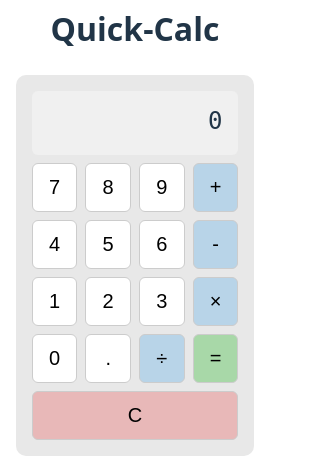
Calculator integration › user flow: divide by zero shows Error
What coordinates should you click on to do the following:
click the button with test id "digit-1"
I would click on:
 (54, 301)
Its box is [32, 277, 77, 326].
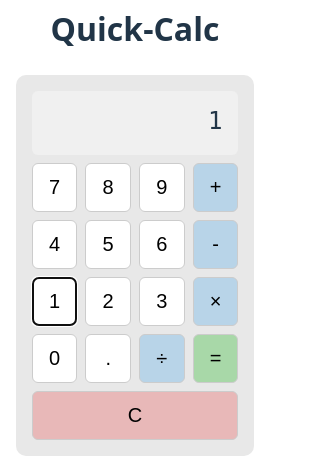
What coordinates should you click on to do the following:
click the button with test id "operator-/"
I would click on:
 (162, 358)
Its box is [139, 334, 185, 383].
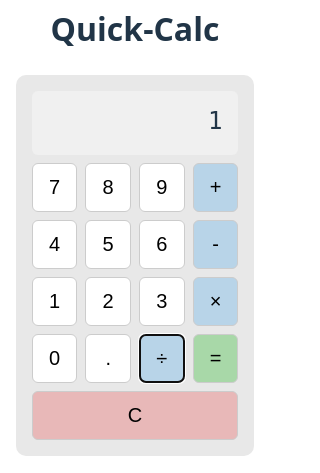
What coordinates should you click on to do the following:
click the button with test id "digit-0"
I would click on:
 (54, 358)
Its box is [32, 334, 77, 383].
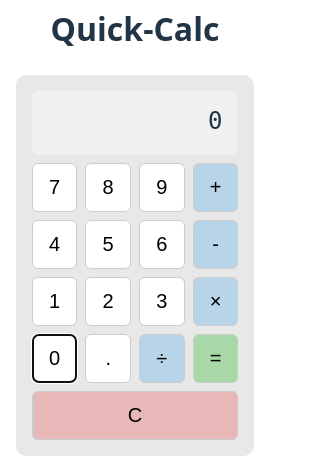
What coordinates should you click on to do the following:
click the button with test id "equals"
I would click on:
 (216, 358)
Its box is [193, 334, 238, 383].
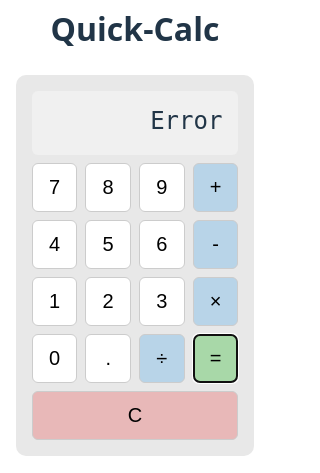
Now the message with test id "calculator-display" reads "Error", box [150, 107, 222, 135]
